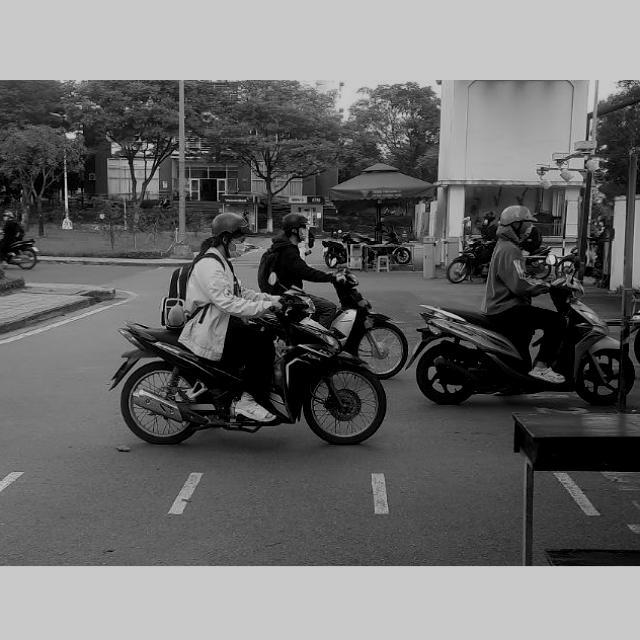Helmet: (211, 212, 251, 258), (498, 204, 538, 244), (280, 213, 310, 243)
